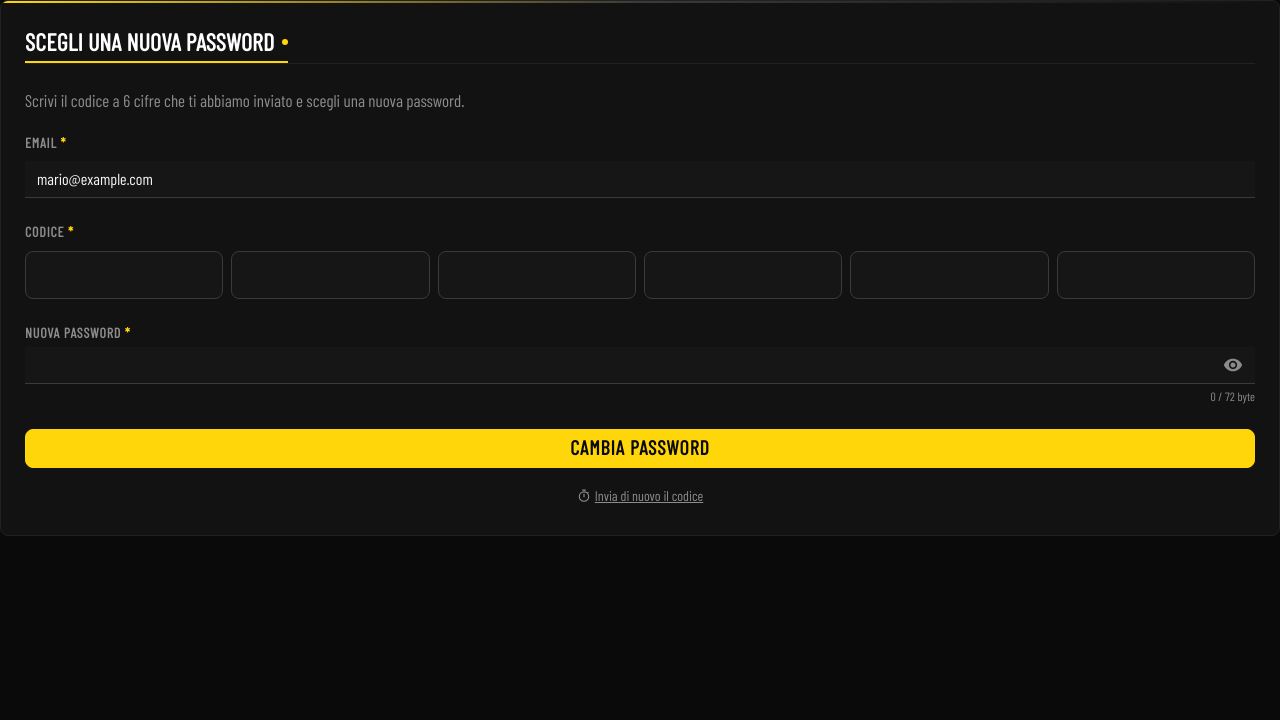
Scenario: ResetPasswordPage · errori del backend › CODE_INVALID: messaggio sotto le caselle, che restano riempite e diventano rosse
The image size is (1280, 720).
Click the field named "Cifra 1 di 6": x=124, y=275 x1=25 y1=251 x2=223 y2=299
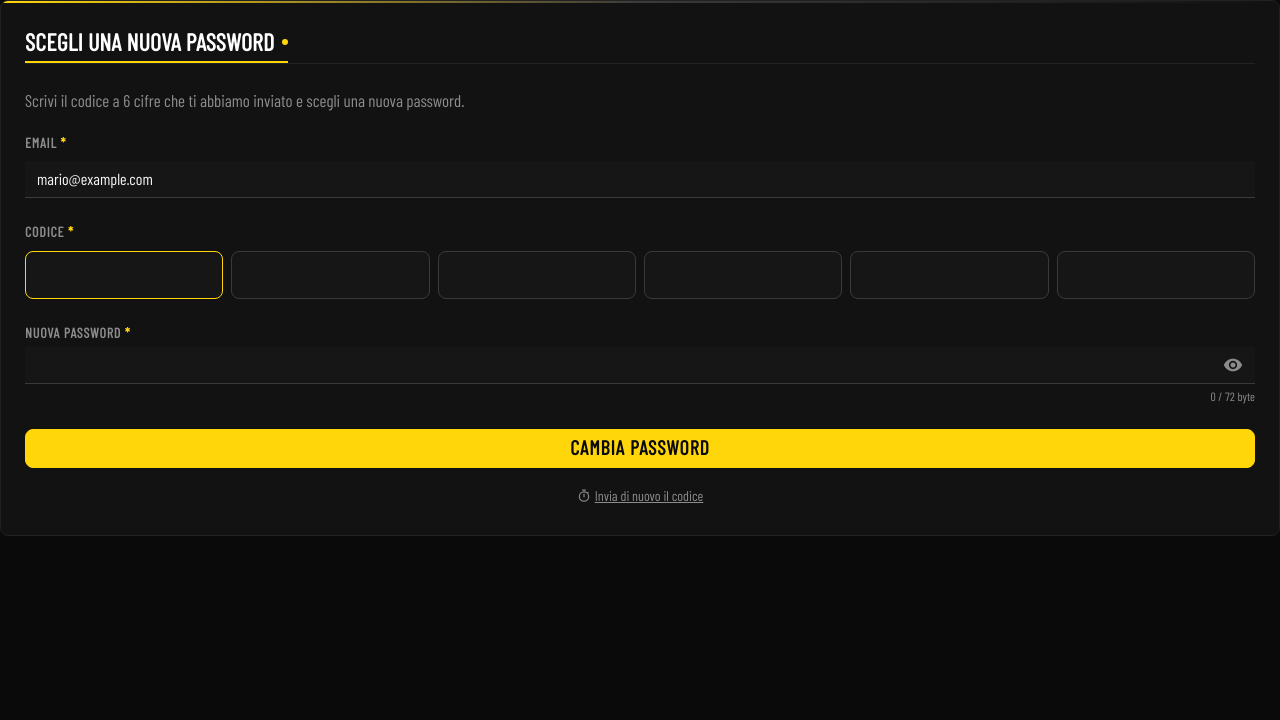
Type keys "482019"
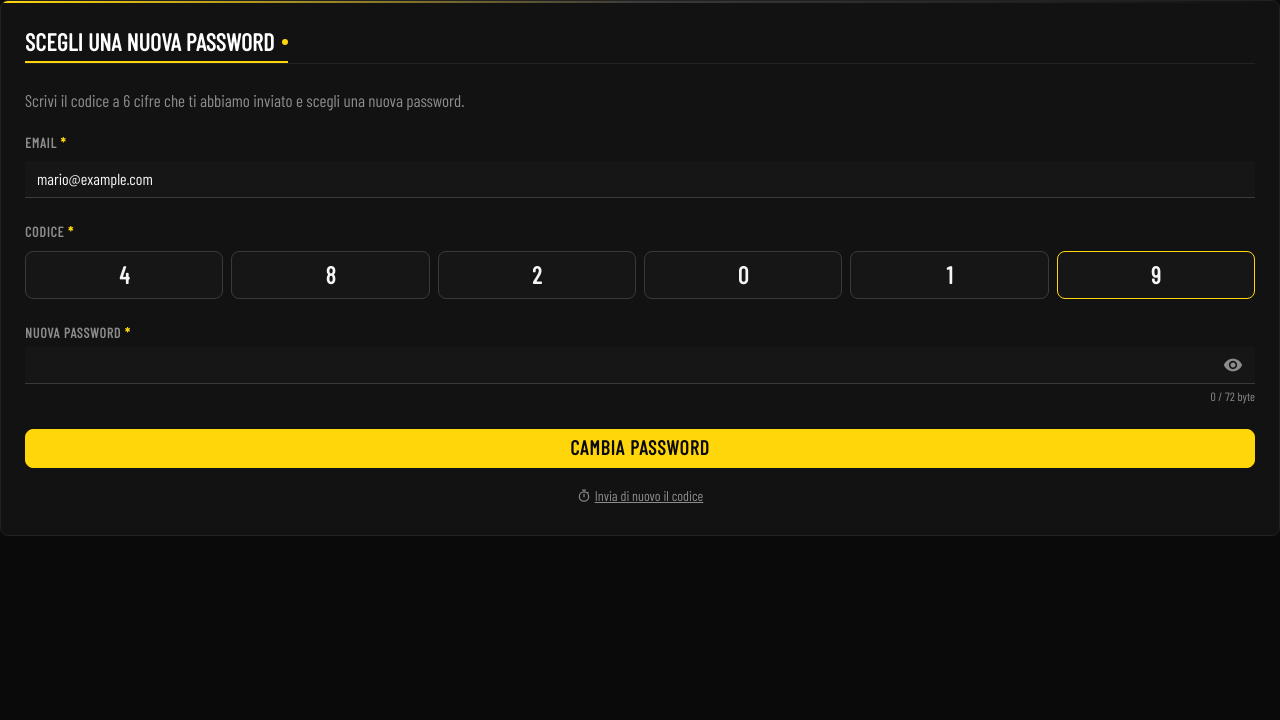
In the password field labelled "Nuova password": x=640, y=365 x1=25 y1=347 x2=1255 y2=384, type "nuova-password-1"
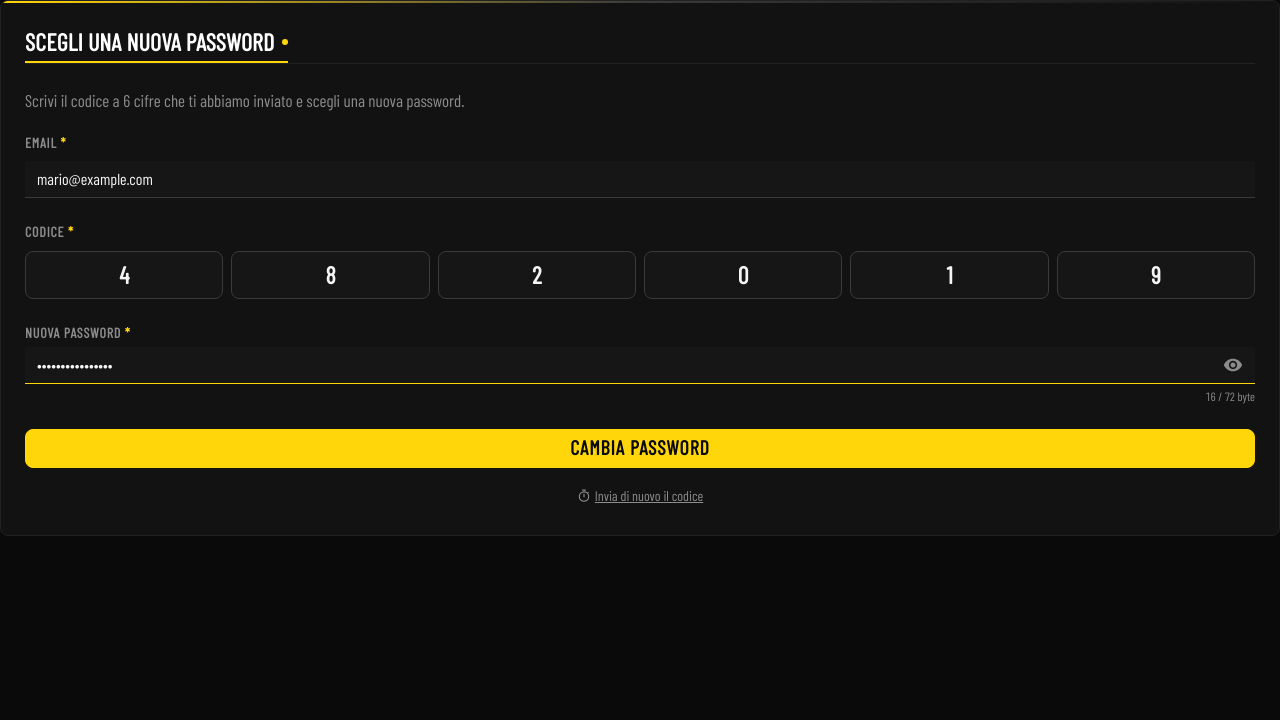
Click the button "Cambia password": x=640, y=449 x1=25 y1=429 x2=1255 y2=468
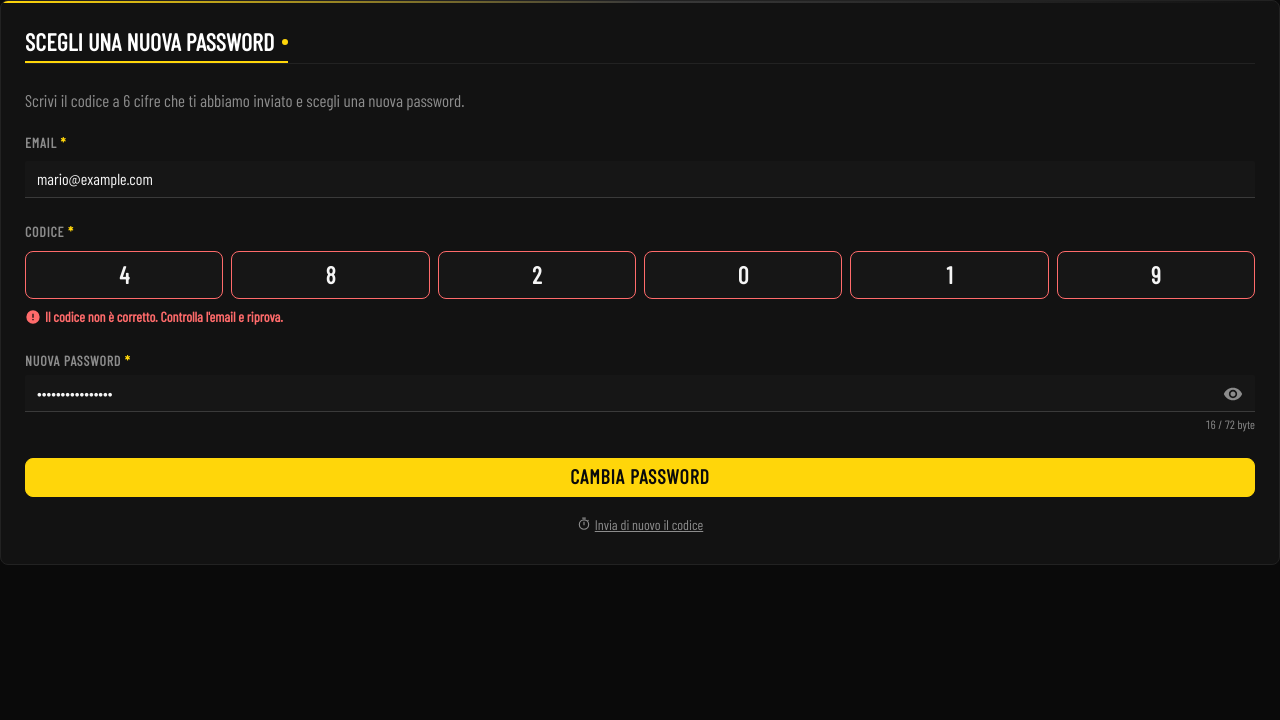
Check: the field named "Cifra 1 di 6" holds "4", box x1=25 y1=251 x2=223 y2=299
Check: the text "Il codice non è corretto. Controlla l'email e riprova." is shown, box x1=45 y1=307 x2=283 y2=327
